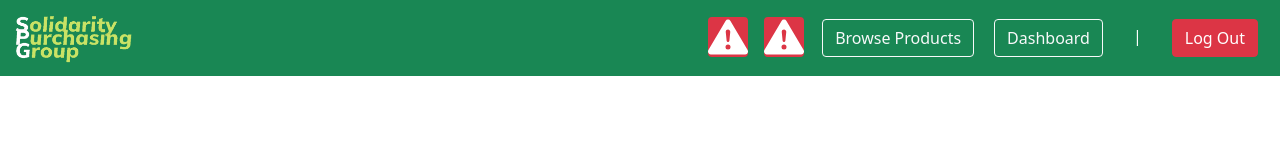
Scenario: Alert Balance insufficient
Expected: the button "Log Out" is shown, [1172,19,1258,57]
Hover over the icon with test id "topUpWarning" at (728, 37), box [708,17,748,57]
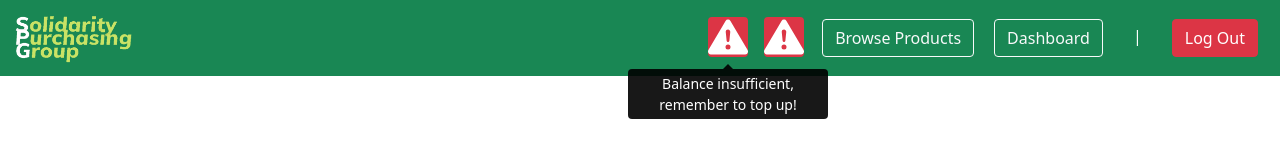
Result: the text "Balance insufficient, remember to top up!" is shown at [628,69,828,119]
